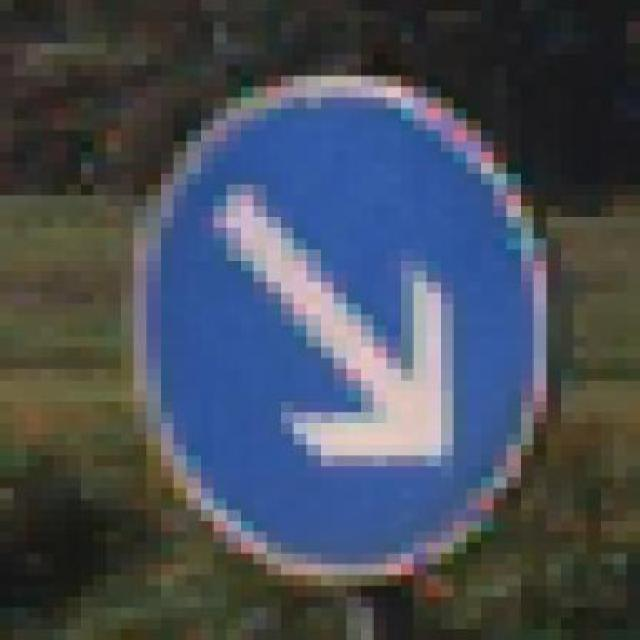Keep-Right: (93, 65, 587, 597)
